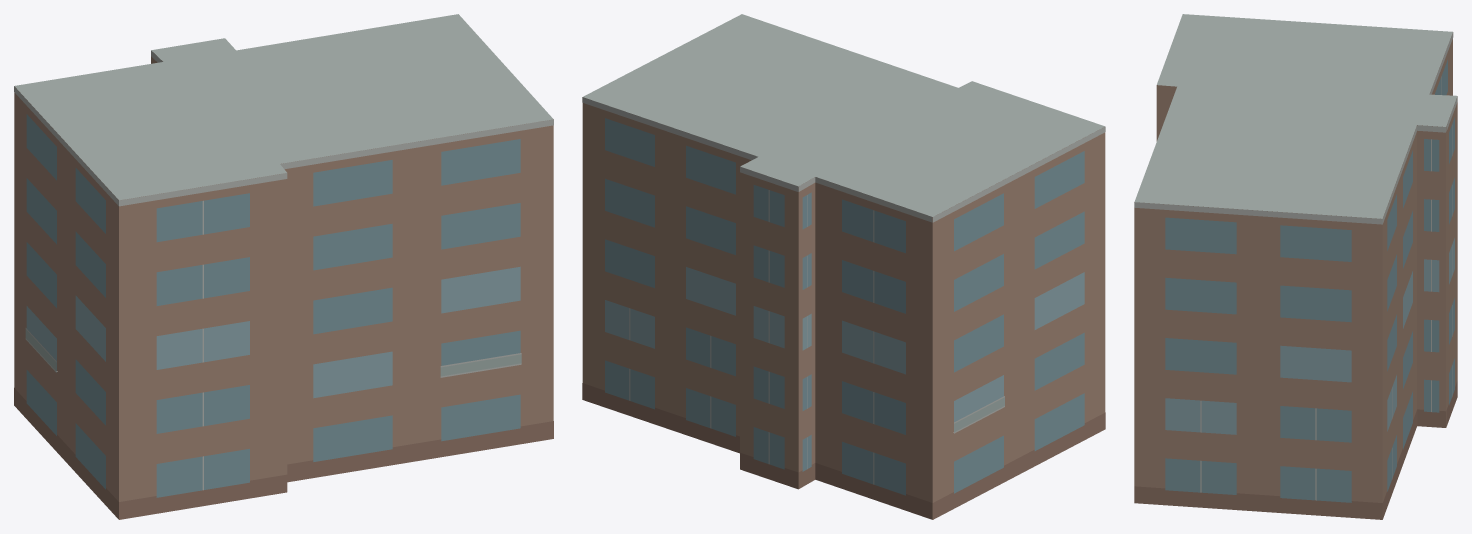
File: survey-upis-33000892.glb
The picture shows the model from 3 angles, left to right: view 1: azimuth 30°, elevation 25°; view 2: azimuth 150°, elevation 25°; view 3: azimuth 270°, elevation 25°; orthographic projection. The views are drawn at different scales.
Parts seen in each view (by area): view 1: survey-upis-33000892.tmp; view 2: survey-upis-33000892.tmp; view 3: survey-upis-33000892.tmp.
Boxes of the visible parts, x1,y1,x2,y2 form: survey-upis-33000892.tmp: [14, 14, 553, 519]; survey-upis-33000892.tmp: [582, 14, 1105, 519]; survey-upis-33000892.tmp: [1134, 14, 1457, 519].
Bounding box in the file's own units: 18.84 × 12.9 × 12.56.
